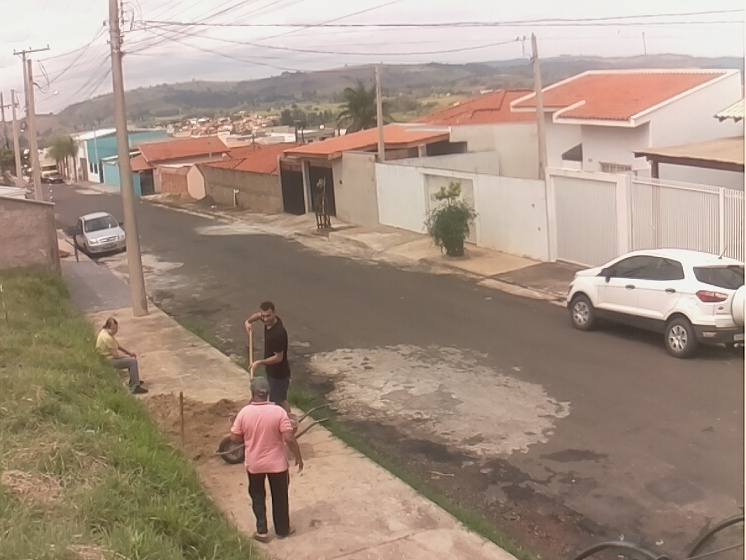person: (230, 377, 305, 541), (243, 301, 293, 414), (95, 318, 149, 394)
